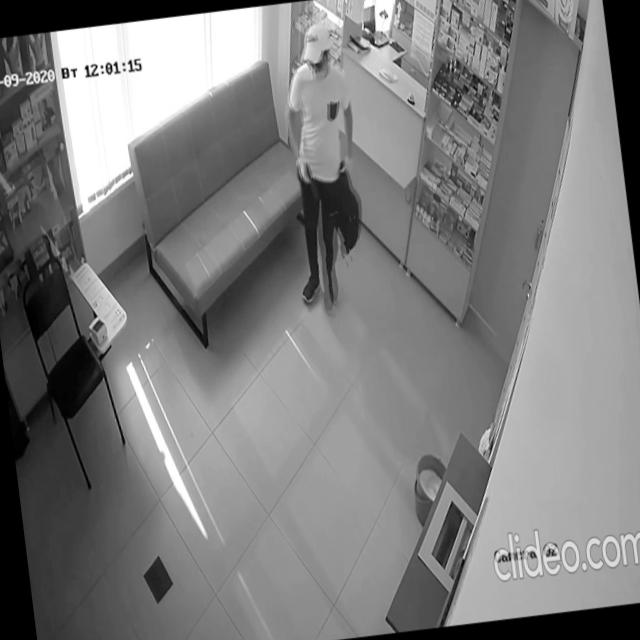gun: (302, 158, 320, 202)
person with a gun: (269, 21, 377, 316)
